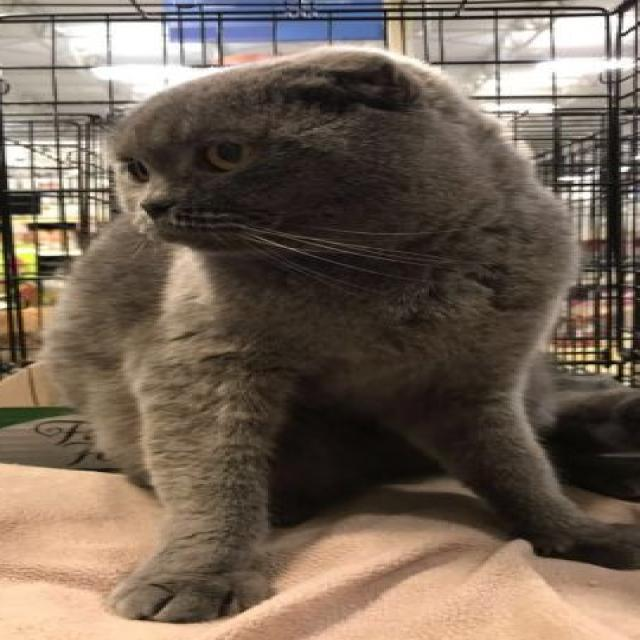Scottish Fold: (35, 38, 640, 625)
